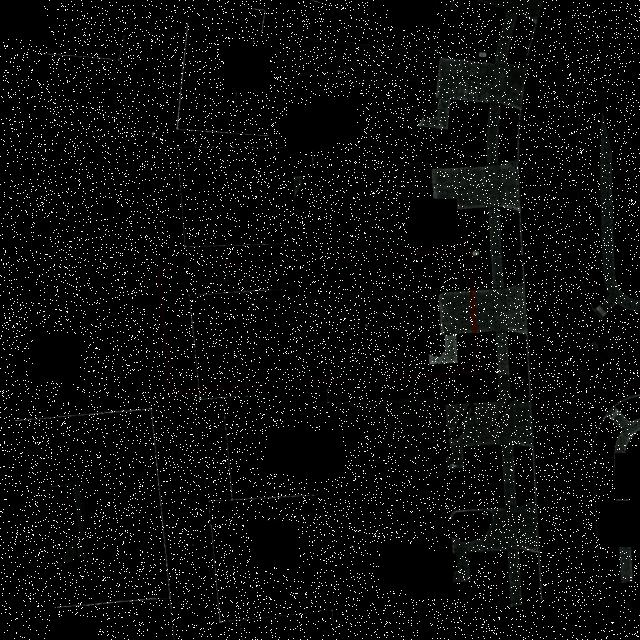Driveway: (429, 290, 471, 364)
House: (257, 287, 437, 379)
